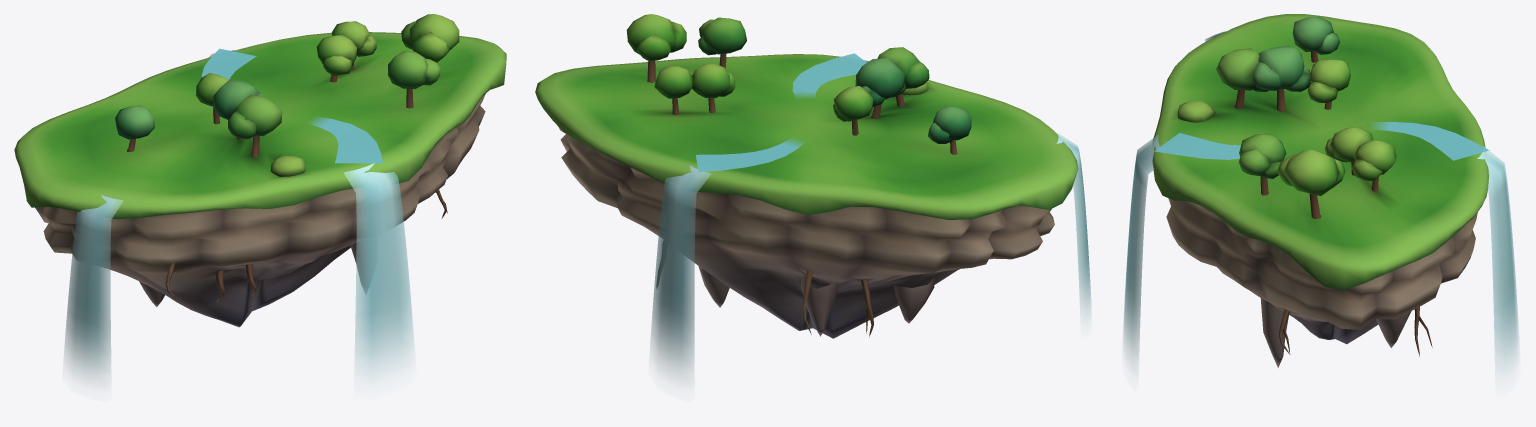
Rendered from island_c.glb.
The picture shows the model from 3 angles, left to right: view 1: azimuth 30°, elevation 25°; view 2: azimuth 150°, elevation 25°; view 3: azimuth 270°, elevation 25°; orthographic projection. The views are drawn at different scales.
Visible parts, largest first — view 1: IslandC, IslandC_water; view 2: IslandC, IslandC_water; view 3: IslandC, IslandC_water.
Part boxes in pixels (box(x1,y1,x2,y2)): IslandC: box(14, 14, 506, 327); IslandC_water: box(64, 48, 414, 383); IslandC: box(535, 14, 1078, 338); IslandC_water: box(650, 53, 1091, 380); IslandC: box(1152, 14, 1488, 367); IslandC_water: box(1123, 29, 1518, 376).
Bounding box in the file's own units: 47.22 × 26.31 × 31.32.
